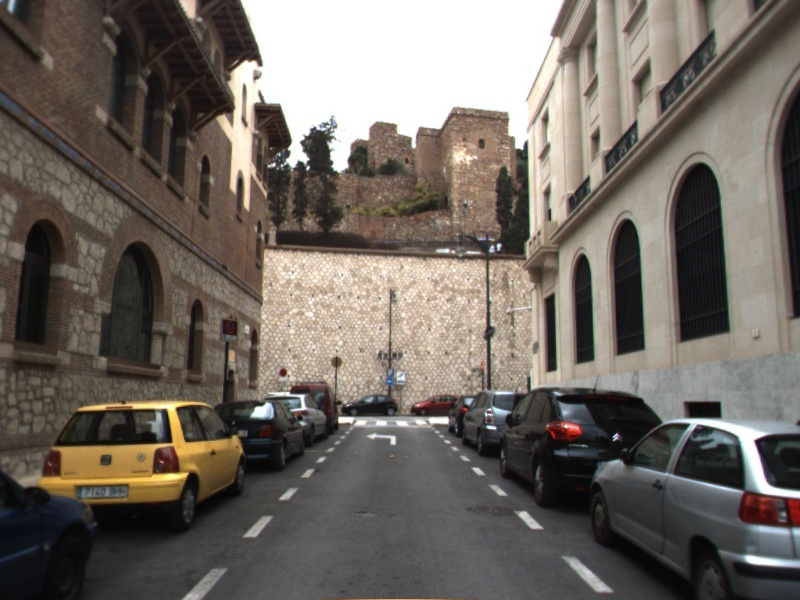LEFT: (364, 430, 398, 447)
